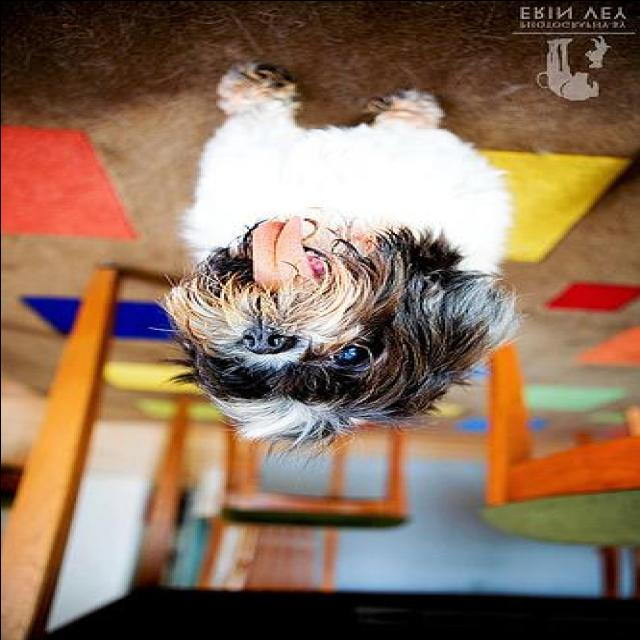shih_tzu: (159, 60, 519, 444)
